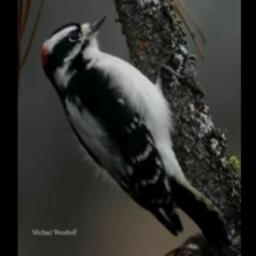Woodpecker: (40, 15, 229, 249)
